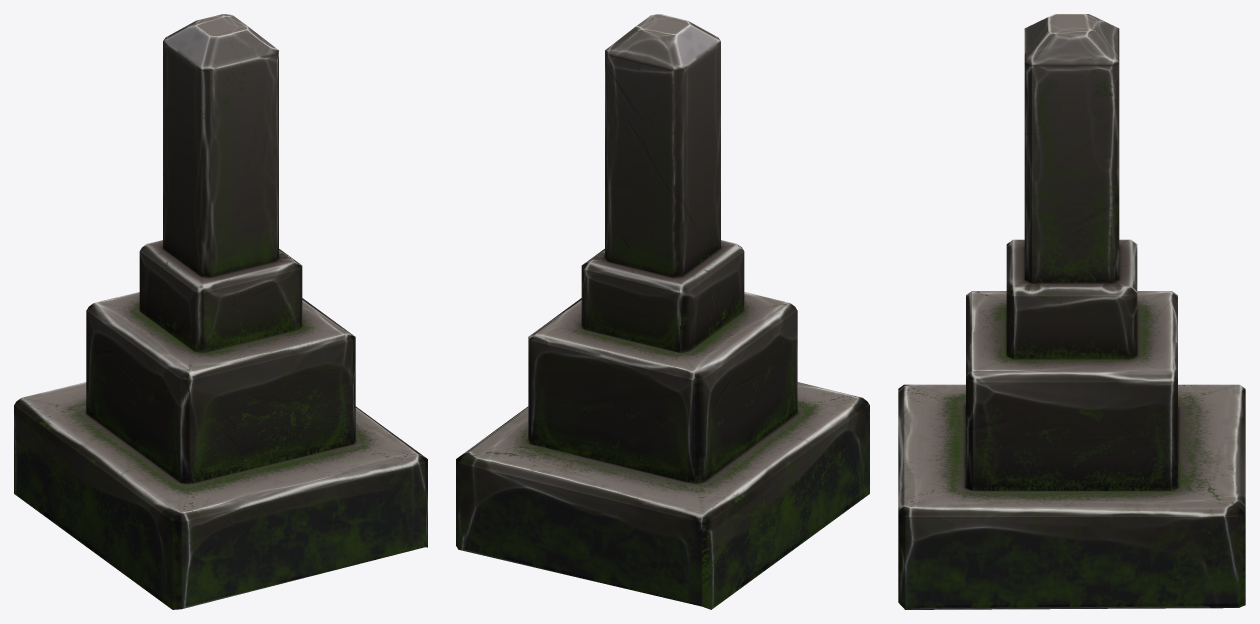
The model's file is NNJ0410023.fbx.
3 renders of one model, left to right at view 1: azimuth 30°, elevation 25°; view 2: azimuth 150°, elevation 25°; view 3: azimuth 270°, elevation 25°, orthographic. The views are drawn at different scales.
Parts seen in each view (by area): view 1: smNNJ0410023; view 2: smNNJ0410023; view 3: smNNJ0410023.
Part boxes in pixels (x1,y1,x2,y2): smNNJ0410023: (14, 14, 427, 609); smNNJ0410023: (456, 14, 869, 609); smNNJ0410023: (898, 14, 1245, 609).
Size of the model in its own units: 79.76 by 148 by 89.48.
1 material, 1 textured.
